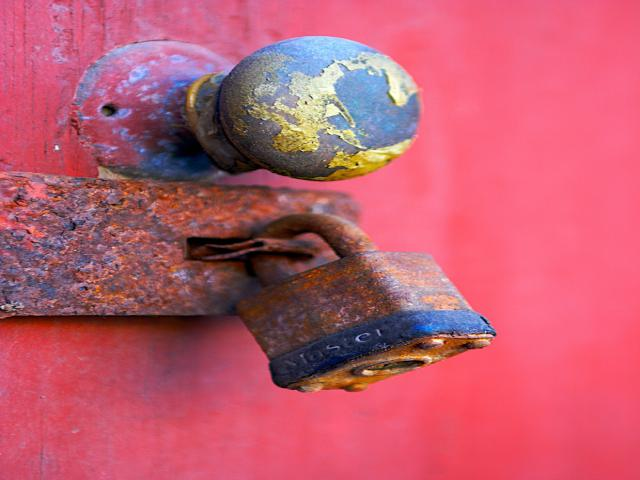Door-handle: (71, 35, 420, 183)
